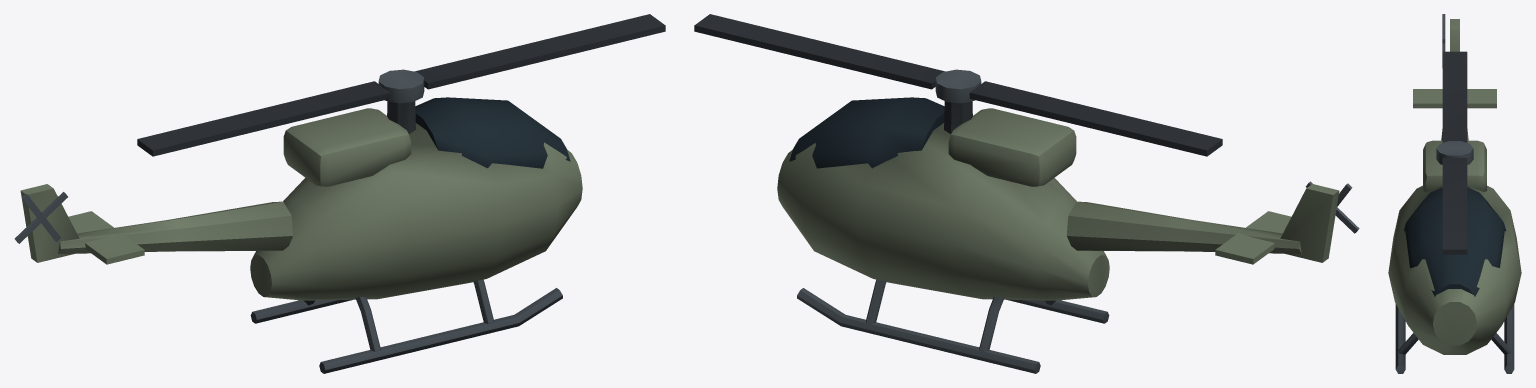
Rendered from helicopter.glb.
The picture shows the model from 3 angles, left to right: view 1: azimuth 30°, elevation 25°; view 2: azimuth 150°, elevation 25°; view 3: azimuth 270°, elevation 25°; orthographic projection. The views are drawn at different scales.
Visible parts, largest first — view 1: body, rotor, dark, glass; view 2: body, rotor, dark, glass; view 3: body, glass, rotor, dark.
Boxes of the visible parts, x1,y1,x2,y2 form: body: (20,108,582,300); rotor: (137,14,665,156); dark: (14,69,562,373); glass: (415,97,570,168); body: (777,108,1339,300); rotor: (694,14,1222,156); dark: (797,69,1359,373); glass: (789,97,944,168); body: (1388,19,1521,354); glass: (1404,187,1505,296); rotor: (1442,51,1467,254); dark: (1395,14,1514,373).
Bounding box in the file's own units: 2.41 × 0.8523 × 0.54.
